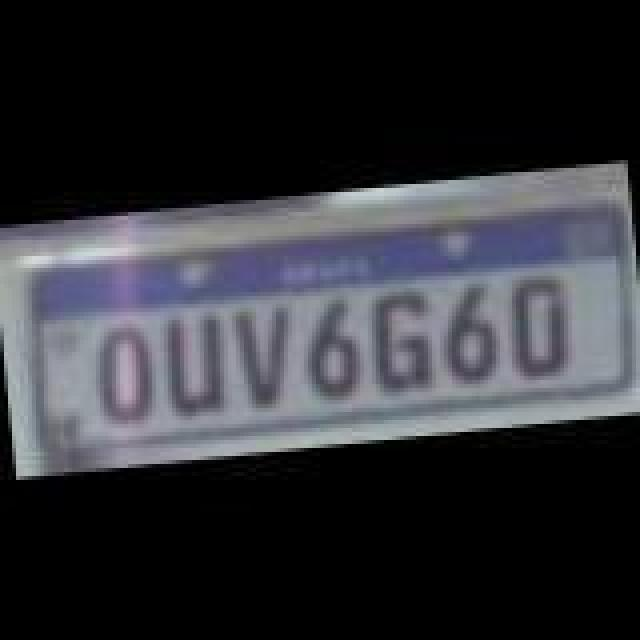6: (434, 272, 510, 384), (290, 292, 366, 404)
D: (504, 268, 576, 380)
G: (368, 282, 440, 398)
O: (92, 316, 164, 420)
U: (154, 304, 230, 416)
V: (226, 294, 302, 410)
